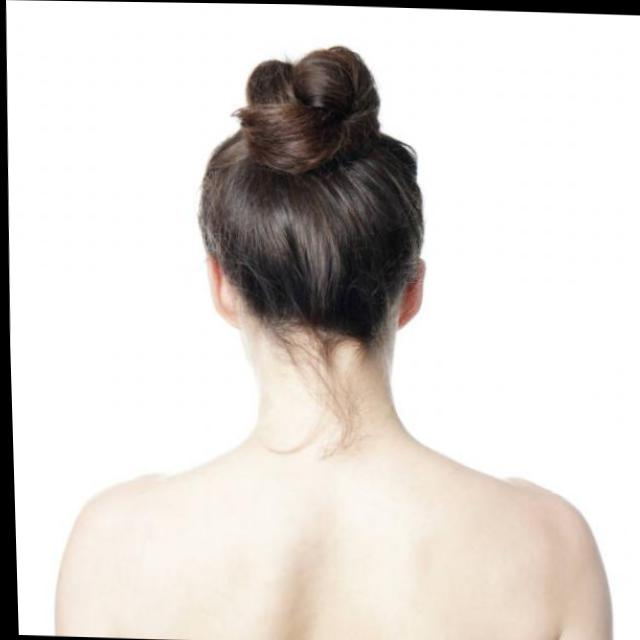no helmet: (175, 62, 443, 418)
